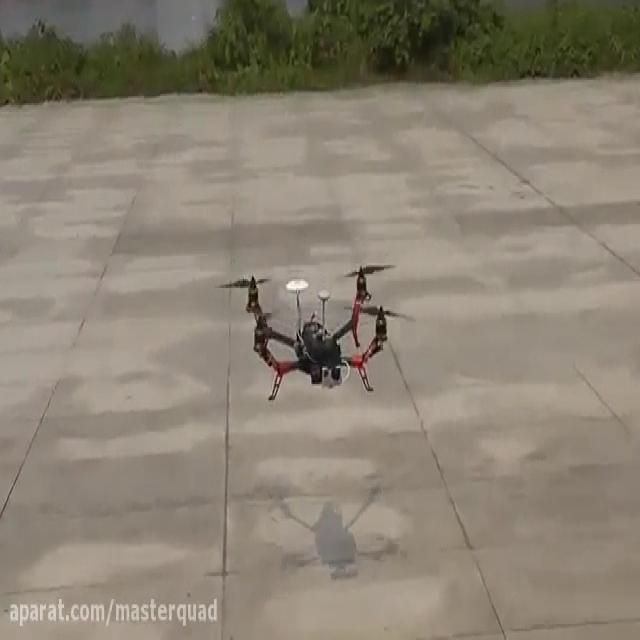drone: (211, 256, 414, 404)
